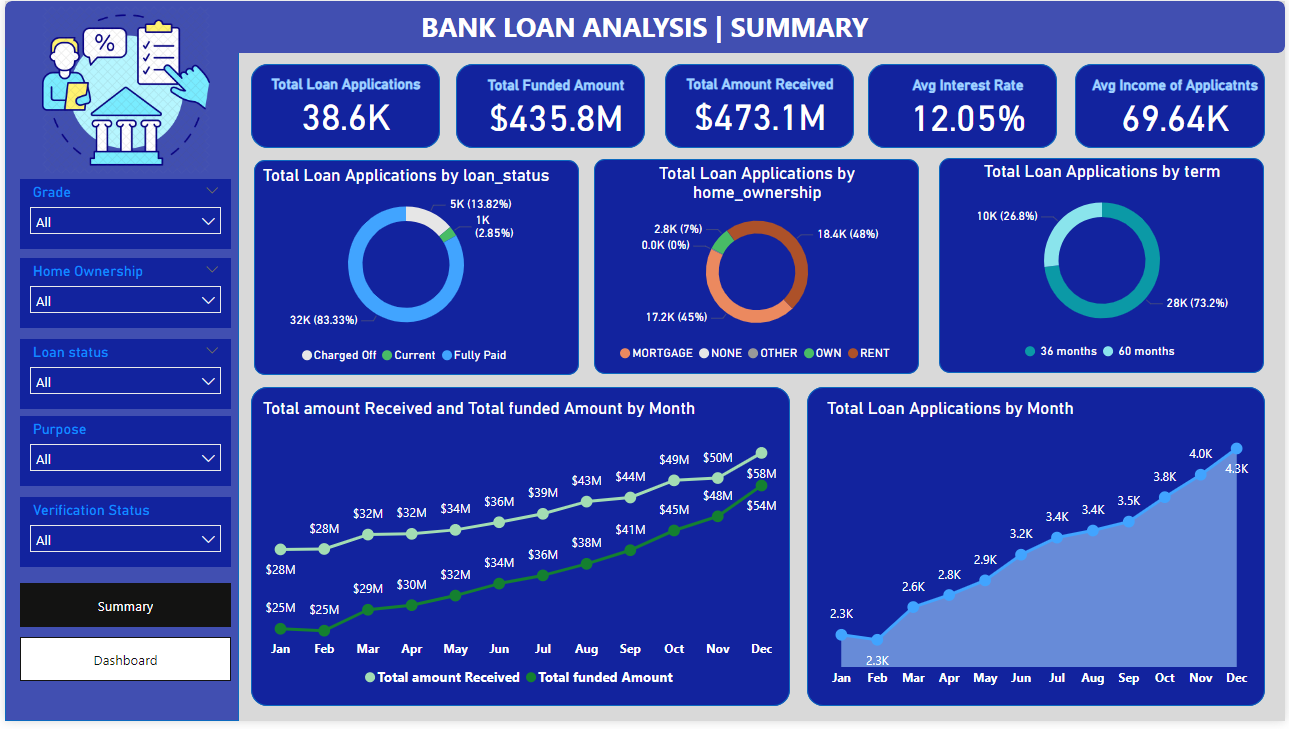

What the dashboard file says about the page in this screenshot:
{"tool":"powerbi","page":{"name":"Summary","canvas":[1280,720],"ordinal":0},"visuals":[{"type":"shape","box":[0,32,234,688],"z":0},{"type":"shape","box":[249,159,325,215],"z":1000},{"type":"shape","box":[246,386,539,319],"z":2000},{"type":"shape","box":[451,63,189,84],"z":3000},{"type":"shape","box":[246,63,189,84],"z":4000},{"type":"shape","box":[0,0,1280,52],"z":5000},{"type":"textbox","title":"BANK LOAN ANALYSIS | SUMMARY","box":[262,2,755,48],"z":6000},{"type":"card","title":"Total Loan Applications","fields":{"Values":["Bank _loan.Total Loan Applications"]},"box":[241,75,200,59],"z":7000},{"type":"card","title":"Total Funded Amount","fields":{"Values":["Bank _loan.Total funded Amount"]},"box":[451,76,200,59],"z":8000},{"type":"shape","box":[660,63,189,84],"z":9000},{"type":"shape","box":[863,63,189,84],"z":10000},{"type":"card","title":"Avg Interest Rate","fields":{"Values":["Bank _loan.Average Interest rate %"]},"box":[863,76,200,59],"z":11000},{"type":"card","title":"Total Amount Received","fields":{"Values":["Bank _loan.Total amount Received"]},"box":[655,75,200,59],"z":12000},{"type":"shape","box":[1070,63,190,84],"z":13000},{"type":"card","title":"Avg Income of Applicatnts","fields":{"Values":["Bank _loan.Avg Salary of customers"]},"box":[1070,76,200,60],"z":14000},{"type":"donutChart","fields":{"Y":["Bank _loan.Total Loan Applications"],"Series":["Bank _loan.loan_status"]},"box":[249,164,304,209],"z":15000},{"type":"lineChart","fields":{"Category":["Calender_table.Month"],"Y":["Bank _loan.Total amount Received"],"Y2":["Bank _loan.Total funded Amount"]},"box":[253,397,526,298],"z":16000},{"type":"shape","box":[589,158,325,215],"z":17000},{"type":"donutChart","fields":{"Y":["Bank _loan.Total Loan Applications"],"Series":["Bank _loan.home_ownership"]},"box":[600,162,304,209],"z":18000},{"type":"shape","box":[802,386,458,319],"z":19000},{"type":"lineChart","fields":{"Category":["Calender_table.Month"],"Y":["Bank _loan.Total Loan Applications"]},"box":[817,397,434,298],"z":20000},{"type":"shape","box":[934,157,325,215],"z":21000},{"type":"donutChart","fields":{"Y":["Bank _loan.Total Loan Applications"],"Category":["Bank _loan.term"]},"box":[945,160,304,209],"z":22000},{"type":"slicer","title":"Grade","fields":{"Values":["Bank _loan.grade"]},"box":[15,178,211,70],"z":23000},{"type":"slicer","title":"Grade","fields":{"Values":["Bank _loan.loan_status"]},"box":[15,338,211,70],"z":24000},{"type":"slicer","title":"Grade","fields":{"Values":["Bank _loan.home_ownership"]},"box":[15,257,211,70],"z":25000},{"type":"slicer","title":"Grade","fields":{"Values":["Bank _loan.purpose"]},"box":[15,415,211,70],"z":26000},{"type":"slicer","title":"Grade","fields":{"Values":["Bank _loan.verification_status"]},"box":[15,496,211,70],"z":27000},{"type":"image","box":[32,0,178,178],"z":28000},{"type":"pageNavigator","box":[15,582,211,98],"z":31000}]}

Visuals, with their boxes in screenshot pixels (x1, y1, x2, y2), scaled from the page's 1280x720 canvas onto the 1289x729 screenshot:
shape: pyautogui.locateOnScreen(0, 32, 236, 728)
shape: pyautogui.locateOnScreen(251, 161, 578, 379)
shape: pyautogui.locateOnScreen(248, 391, 791, 714)
shape: pyautogui.locateOnScreen(454, 64, 644, 149)
shape: pyautogui.locateOnScreen(248, 64, 438, 149)
shape: pyautogui.locateOnScreen(0, 0, 1288, 53)
"BANK LOAN ANALYSIS | SUMMARY" textbox: pyautogui.locateOnScreen(264, 2, 1024, 51)
"Total Loan Applications" card: pyautogui.locateOnScreen(243, 76, 444, 136)
"Total Funded Amount" card: pyautogui.locateOnScreen(454, 77, 656, 137)
shape: pyautogui.locateOnScreen(665, 64, 855, 149)
shape: pyautogui.locateOnScreen(869, 64, 1059, 149)
"Avg Interest Rate" card: pyautogui.locateOnScreen(869, 77, 1070, 137)
"Total Amount Received" card: pyautogui.locateOnScreen(660, 76, 861, 136)
shape: pyautogui.locateOnScreen(1078, 64, 1269, 149)
"Avg Income of Applicatnts" card: pyautogui.locateOnScreen(1078, 77, 1279, 138)
donutChart - Bank _loan.Total Loan Applications x Bank _loan.loan_status: pyautogui.locateOnScreen(251, 166, 557, 378)
lineChart - Calender_table.Month x Bank _loan.Total amount Received: pyautogui.locateOnScreen(255, 402, 784, 704)
shape: pyautogui.locateOnScreen(593, 160, 920, 378)
donutChart - Bank _loan.Total Loan Applications x Bank _loan.home_ownership: pyautogui.locateOnScreen(604, 164, 910, 376)
shape: pyautogui.locateOnScreen(808, 391, 1269, 714)
lineChart - Calender_table.Month x Bank _loan.Total Loan Applications: pyautogui.locateOnScreen(823, 402, 1260, 704)
shape: pyautogui.locateOnScreen(941, 159, 1268, 377)
donutChart - Bank _loan.Total Loan Applications x Bank _loan.term: pyautogui.locateOnScreen(952, 162, 1258, 374)
"Grade" slicer: pyautogui.locateOnScreen(15, 180, 228, 251)
"Grade" slicer: pyautogui.locateOnScreen(15, 342, 228, 413)
"Grade" slicer: pyautogui.locateOnScreen(15, 260, 228, 331)
"Grade" slicer: pyautogui.locateOnScreen(15, 420, 228, 491)
"Grade" slicer: pyautogui.locateOnScreen(15, 502, 228, 573)
image: pyautogui.locateOnScreen(32, 0, 211, 180)
pageNavigator: pyautogui.locateOnScreen(15, 589, 228, 688)
